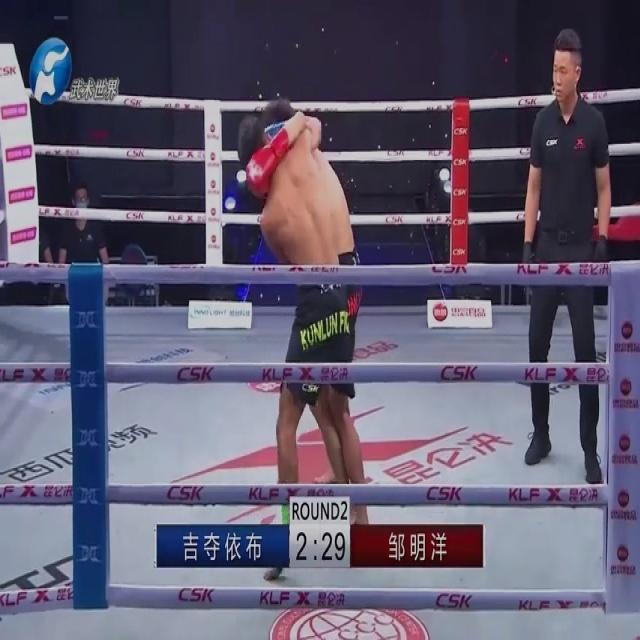fight: (237, 94, 371, 586)
non-fight: (514, 20, 614, 485)
